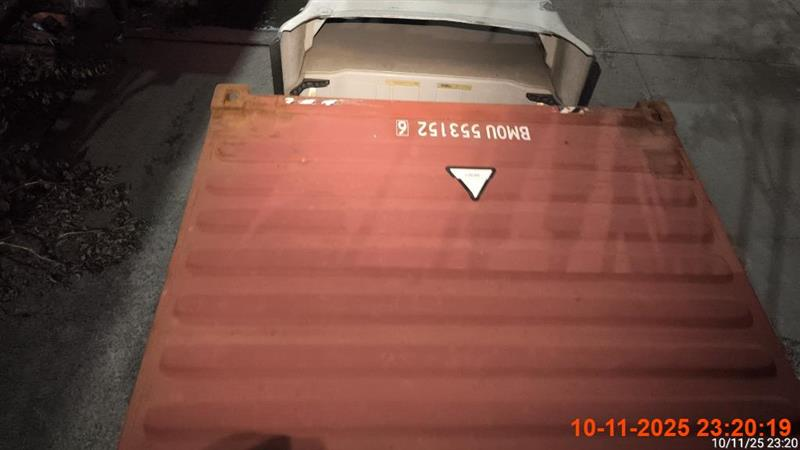broken: (116, 83, 800, 441)
